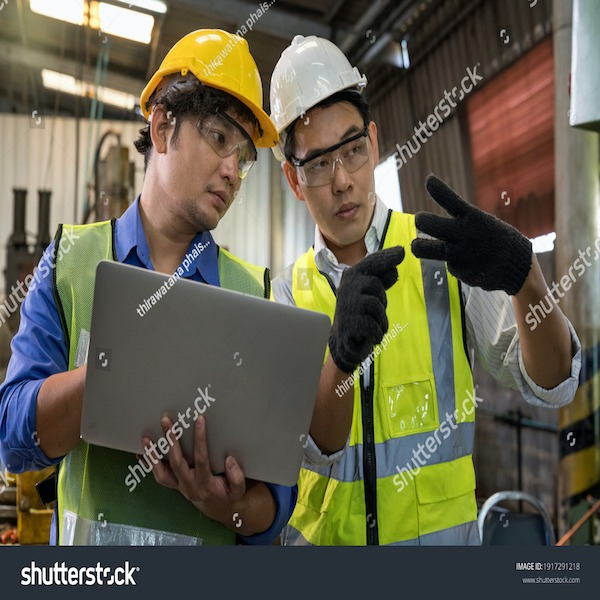helmet: (144, 25, 266, 115), (270, 33, 368, 134)
vest: (56, 210, 263, 541), (294, 233, 484, 522)
